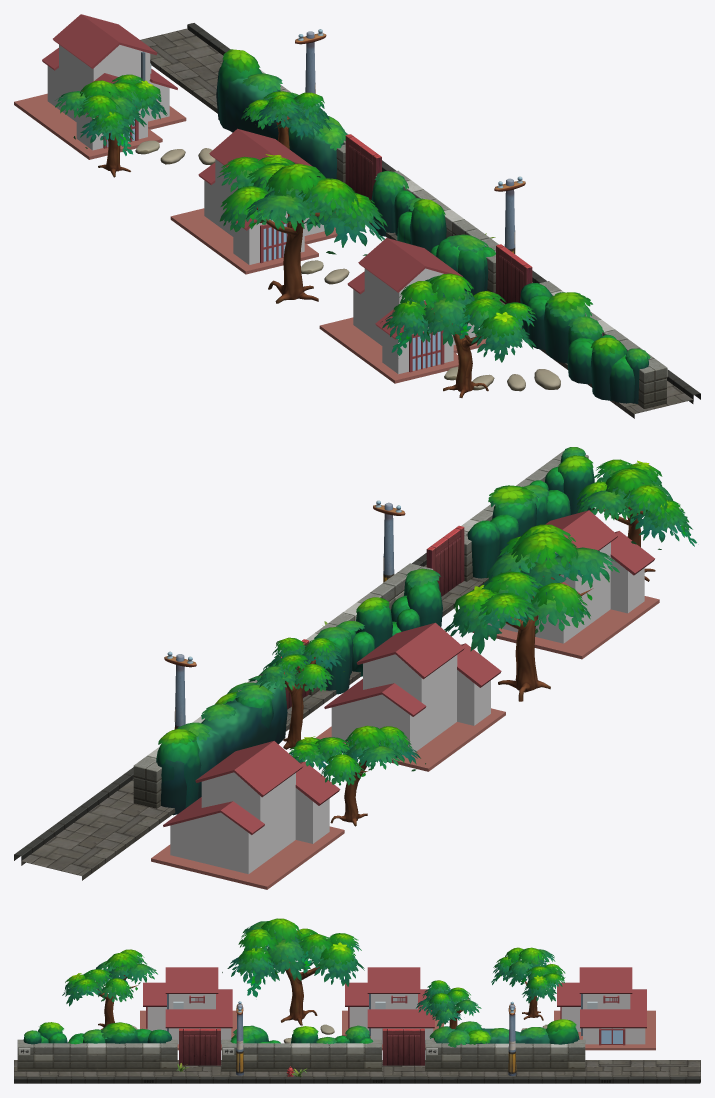
File: stree_02.fbx
The picture shows the model from 3 angles, top to bottom: view 1: azimuth 30°, elevation 25°; view 2: azimuth 150°, elevation 25°; view 3: azimuth 270°, elevation 25°; orthographic projection. The views are drawn at different scales.
Visible parts, largest first — view 1: Jiejing_shu02, polySurface105, polySurface104, Jiejing_shu03, Jiejing_guanmucong01, polySurface103, Jiejing_guanmucong04, Jiejing_shu04, Jiejing_guanmucong03, Jiejing_dimian03, Jiejing_shu01, Jiejing_guanmucong02 (+7 smaller); view 2: polySurface105, polySurface103, Jiejing_shu02, polySurface104, Jiejing_guanmucong04, Jiejing_guanmucong01, Jiejing_dimian03, Jiejing_shu03, Jiejing_shu04, Jiejing_shu01, Jiejing_guanmucong03, Jiejing_guanmucong02 (+8 smaller); view 3: Jiejing_shu02, polySurface105, polySurface104, polySurface103, Jiejing_qiang01, Jiejing_qiang02, Jiejing_qiang03, Jiejing_shu03, Jiejing_shu04, Jiejing_guanmucong04, Jiejing_dimian03, Jiejing_guanmucong01 (+12 smaller).
Part boxes in pixels (x1,y1,x2,y2): Jiejing_shu02: [217, 154, 387, 303]; polySurface105: [14, 14, 186, 159]; polySurface104: [319, 238, 486, 383]; Jiejing_shu03: [382, 273, 536, 397]; Jiejing_guanmucong01: [520, 283, 650, 403]; polySurface103: [170, 128, 337, 274]; Jiejing_guanmucong04: [216, 49, 347, 178]; Jiejing_shu04: [55, 74, 167, 177]; Jiejing_guanmucong03: [371, 171, 446, 252]; Jiejing_dimian03: [140, 28, 223, 113]; Jiejing_shu01: [241, 91, 331, 148]; Jiejing_guanmucong02: [430, 234, 495, 298]; polySurface105: [151, 741, 344, 889]; polySurface103: [316, 622, 505, 771]; Jiejing_shu02: [444, 524, 619, 701]; polySurface104: [472, 510, 659, 659]; Jiejing_guanmucong04: [156, 675, 287, 815]; Jiejing_guanmucong01: [467, 447, 594, 578]; Jiejing_dimian03: [21, 779, 175, 880]; Jiejing_shu03: [576, 459, 696, 581]; Jiejing_shu04: [289, 725, 425, 826]; Jiejing_shu01: [257, 637, 345, 749]; Jiejing_guanmucong03: [314, 597, 392, 694]; Jiejing_guanmucong02: [391, 568, 442, 635]; Jiejing_shu02: [222, 918, 364, 1025]; polySurface105: [554, 967, 655, 1050]; polySurface104: [140, 967, 236, 1050]; polySurface103: [342, 967, 443, 1050]; Jiejing_qiang01: [17, 1039, 177, 1071]; Jiejing_qiang02: [221, 1039, 381, 1071]; Jiejing_qiang03: [425, 1039, 585, 1071]; Jiejing_shu03: [62, 949, 157, 1029]; Jiejing_shu04: [491, 947, 565, 1020]; Jiejing_guanmucong04: [429, 1019, 579, 1047]; Jiejing_dimian03: [472, 1060, 700, 1082]; Jiejing_guanmucong01: [23, 1022, 171, 1044].
Size of the model in its own units: 0.1834 by 0.0946 by 0.5972.
Materials: 12 (12 with a texture image).
